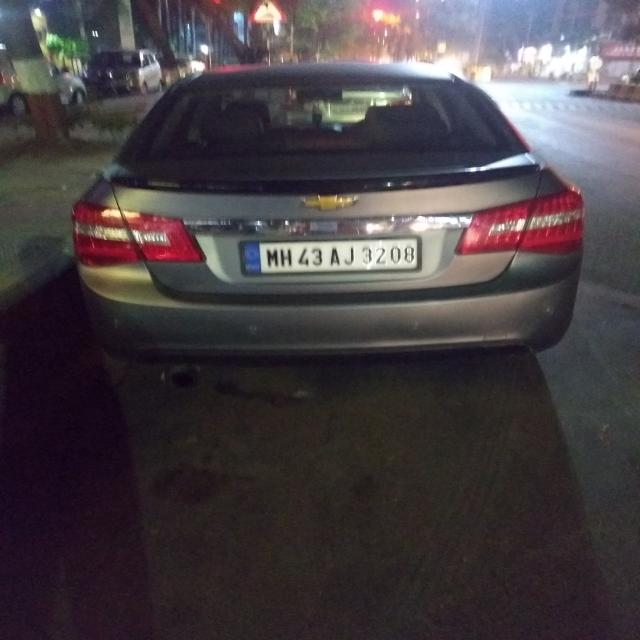Number-Plate: (248, 238, 417, 274)
